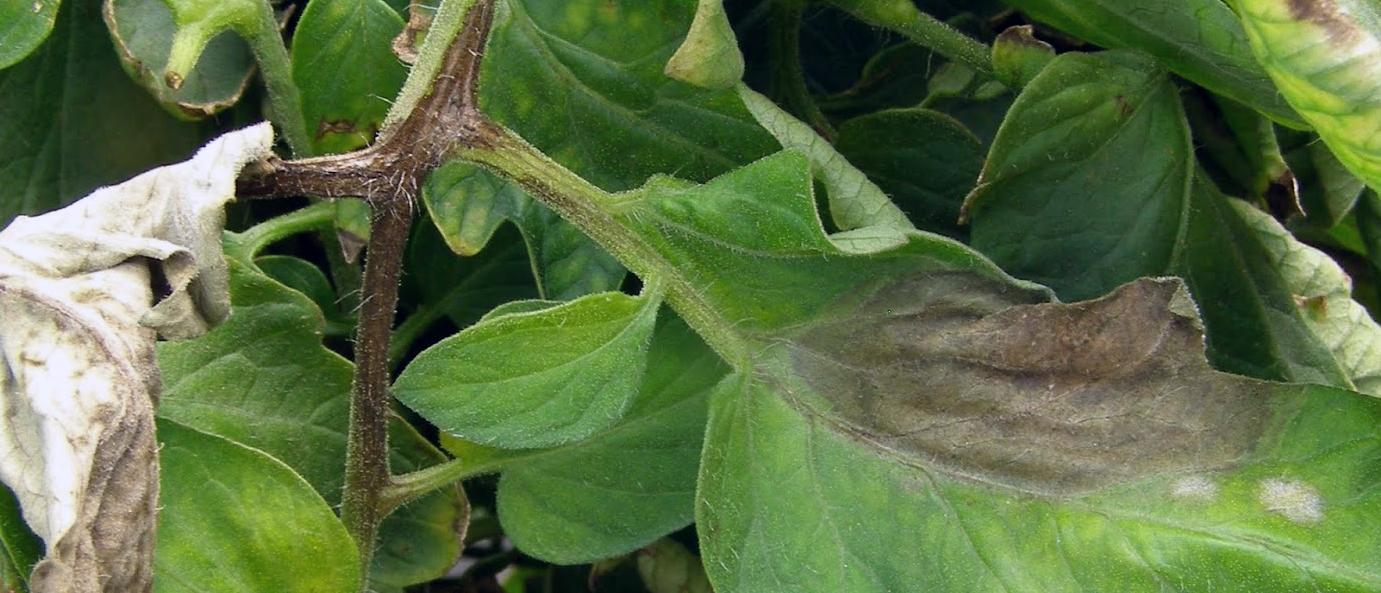Tomato mold leaf: (675, 153, 1381, 593), (382, 271, 670, 462)
